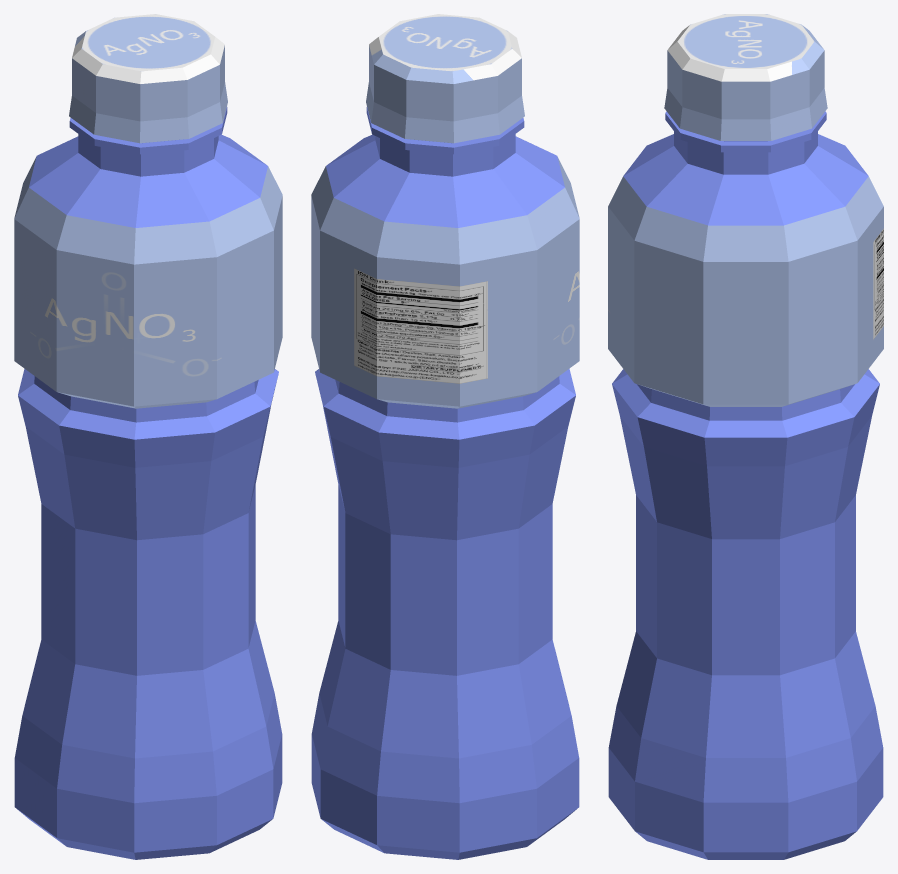
File: AgNO3.fbx
The picture shows the model from 3 angles, left to right: view 1: azimuth 30°, elevation 25°; view 2: azimuth 150°, elevation 25°; view 3: azimuth 270°, elevation 25°; orthographic projection.
Visible parts, largest first — view 1: Cylinder, Cylinder.001; view 2: Cylinder, Cylinder.001; view 3: Cylinder, Cylinder.001.
Part boxes in pixels (x1=…): Cylinder: x1=14, y1=107, x2=282, y2=859; Cylinder.001: x1=69, y1=14, x2=227, y2=143; Cylinder: x1=311, y1=107, x2=579, y2=859; Cylinder.001: x1=366, y1=14, x2=524, y2=143; Cylinder: x1=608, y1=111, x2=883, y2=859; Cylinder.001: x1=664, y1=14, x2=827, y2=140.
Size of the model in its own units: 135 by 437 by 142.
